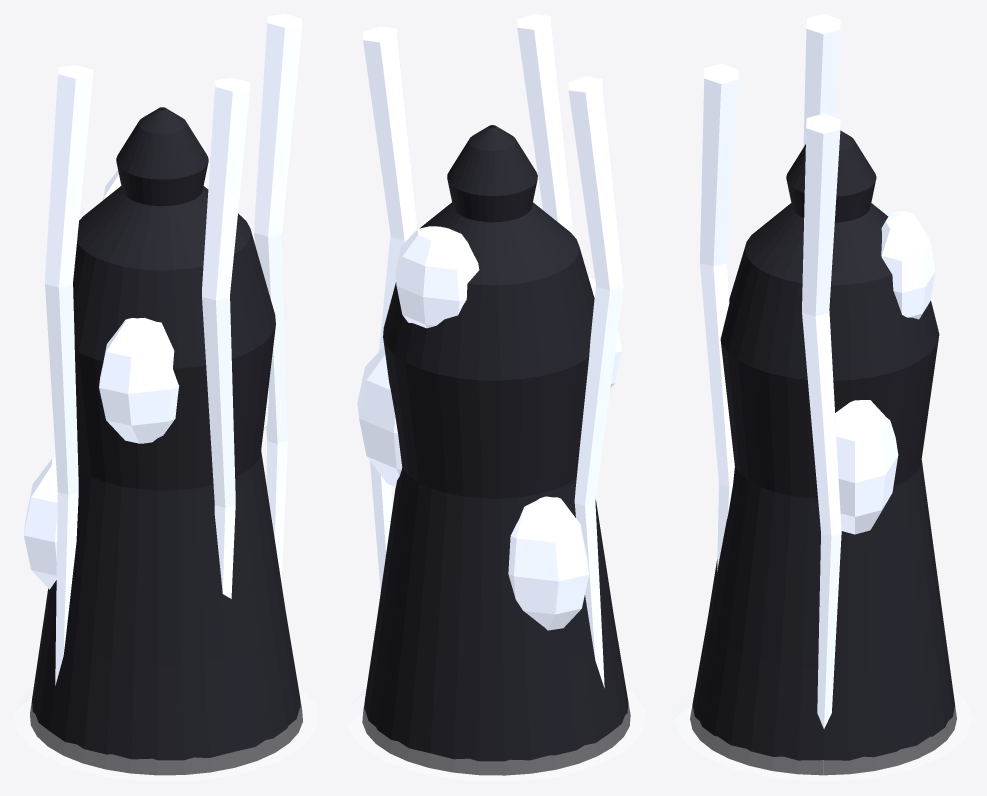
The model's file is bong-den-khong-mat.glb.
The picture shows the model from 3 angles, left to right: view 1: azimuth 30°, elevation 25°; view 2: azimuth 150°, elevation 25°; view 3: azimuth 270°, elevation 25°; orthographic projection. The views are drawn at different scales.
Visible parts, largest first — view 1: Shadow, Tendril_0, Tendril_2, Tendril_1, Smoke_2, Mist_0, Smoke_0; view 2: Shadow, Tendril_0, Tendril_1, Smoke_0, Mist_0, Tendril_2, Smoke_3, Smoke_1; view 3: Shadow, Tendril_1, Tendril_2, Mist_0, Smoke_1, Smoke_3, Tendril_0.
Part boxes in pixels (box(x1,y1,x2,y2)): Shadow: box(30, 107, 302, 775); Tendril_0: box(45, 65, 93, 685); Tendril_2: box(202, 78, 250, 598); Tendril_1: box(254, 14, 302, 582); Smoke_2: box(99, 317, 178, 443); Mist_0: box(14, 685, 318, 781); Smoke_0: box(23, 457, 57, 589); Shadow: box(362, 125, 630, 775); Tendril_0: box(568, 76, 623, 687); Tendril_1: box(363, 26, 417, 591); Smoke_0: box(508, 496, 589, 630); Mist_0: box(347, 687, 645, 781); Tendril_2: box(517, 14, 572, 232); Smoke_3: box(395, 226, 479, 328); Smoke_1: box(357, 346, 402, 486); Shadow: box(690, 130, 956, 775); Tendril_1: box(802, 113, 841, 728); Tendril_2: box(700, 64, 738, 571); Mist_0: box(674, 689, 972, 781); Smoke_1: box(835, 400, 898, 534); Smoke_3: box(881, 210, 935, 319); Tendril_0: box(803, 14, 840, 147).
Bounding box in the file's own units: 0.7697 × 1.84 × 0.76.
Materials: 3 (1 with a texture image).
